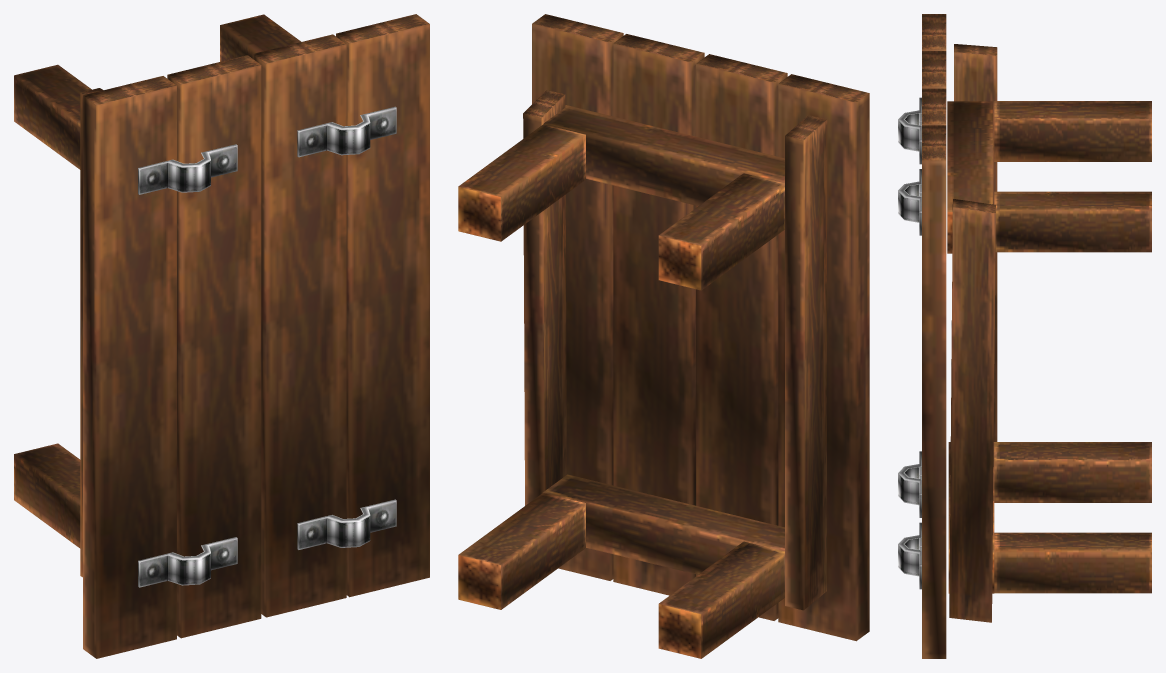
File: INST_SWORDLIGHT_TORTTABLE.fbx
3 views of the same model, side by side, from view 1: azimuth 30°, elevation 25°; view 2: azimuth 150°, elevation 25°; view 3: azimuth 270°, elevation 25° (orthographic). The views are drawn at different scales.
Parts seen in each view (by area): view 1: INST_SWORDLIGHT_TORTTABLE; view 2: INST_SWORDLIGHT_TORTTABLE; view 3: INST_SWORDLIGHT_TORTTABLE.
Boxes of the visible parts, bbox=[...] form: INST_SWORDLIGHT_TORTTABLE: bbox=[14, 14, 429, 658]; INST_SWORDLIGHT_TORTTABLE: bbox=[458, 14, 869, 658]; INST_SWORDLIGHT_TORTTABLE: bbox=[898, 14, 1151, 658].
Size of the model in its own units: 12222 by 19392 by 8945.
Materials: 3 (3 with a texture image).
